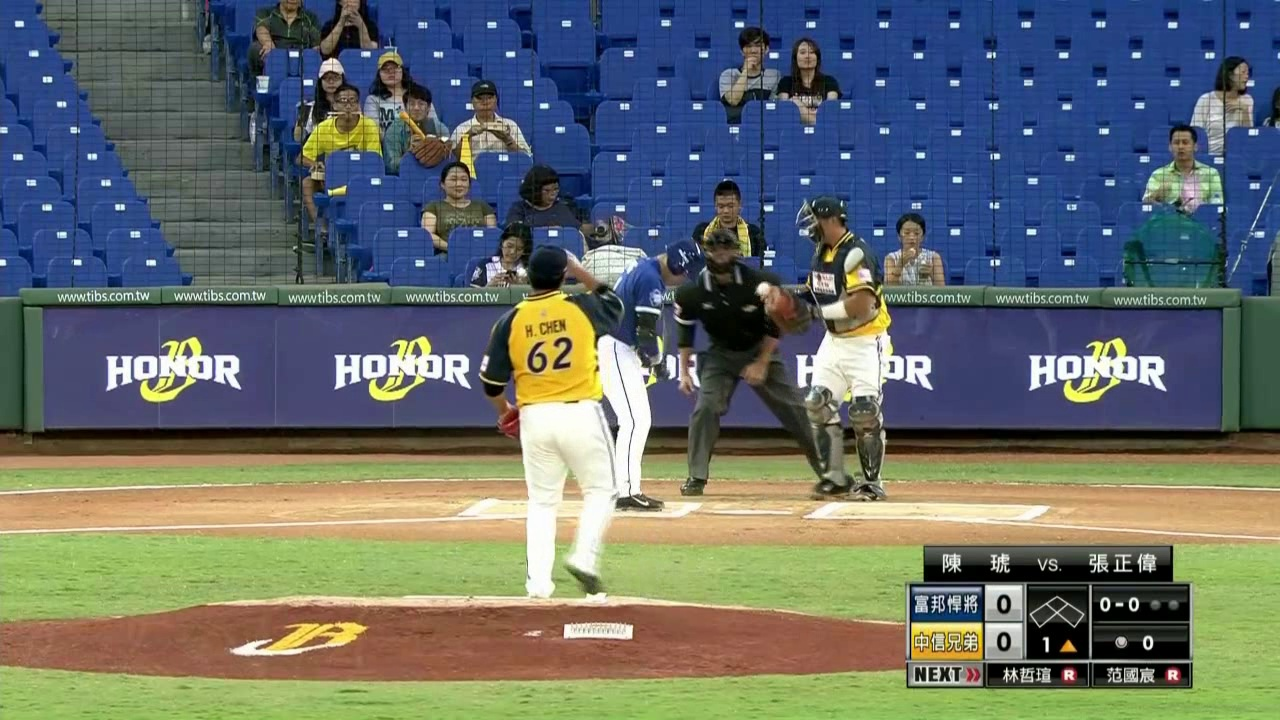ball: (758, 283, 771, 293)
base: (1024, 592, 1087, 630)
bat: (659, 305, 666, 364)
out: (1147, 595, 1182, 616)
score1: (986, 589, 1017, 619)
score2: (985, 624, 1018, 655)
session: (1027, 633, 1083, 657)
strikeball: (1096, 591, 1141, 613)
total: (1113, 629, 1156, 654)
